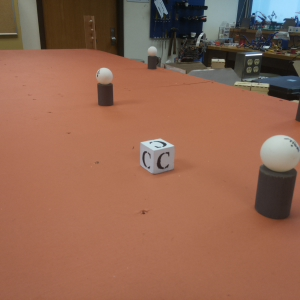blockC: (137, 137, 175, 172)
corner: (85, 15, 95, 52)
obstacle: (252, 131, 297, 218), (95, 66, 113, 101), (147, 47, 158, 68)
